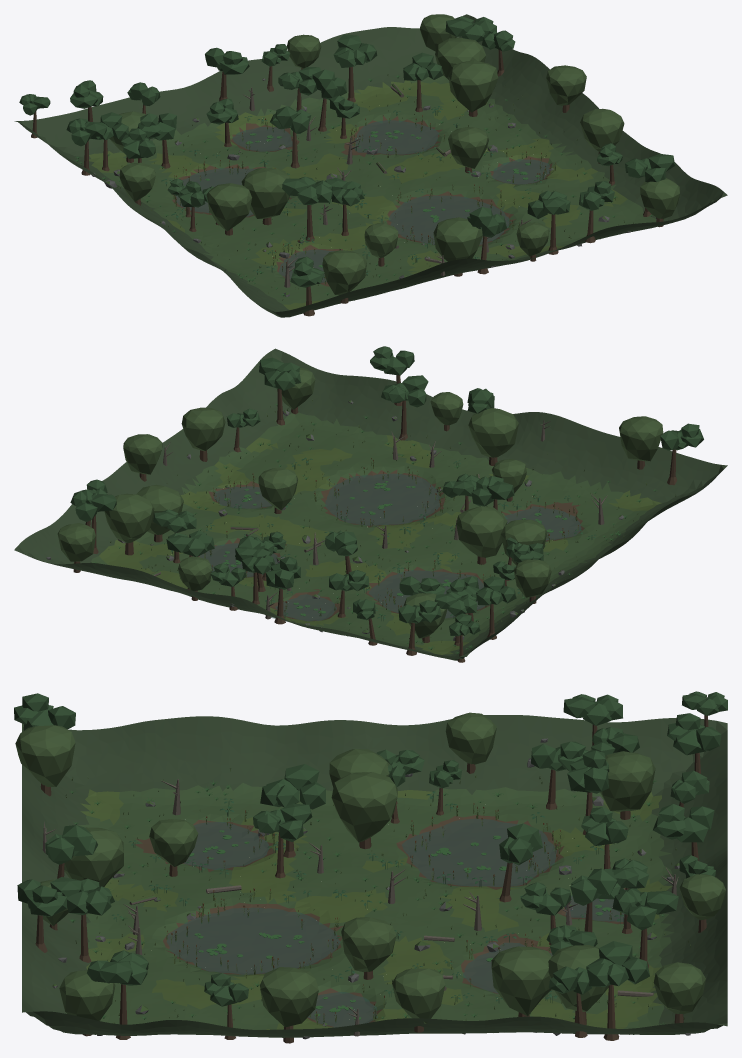
Rendered from swamp_world.glb.
3 views of the same model, one above another, from view 1: azimuth 30°, elevation 25°; view 2: azimuth 150°, elevation 25°; view 3: azimuth 270°, elevation 25° (orthographic). The views are drawn at different scales.
Visible parts, largest first — view 1: Terrain, Pond_3, Pond_2, Tree_Willow_1.010, Tree_Willow_1.001, Tree_Willow_1.009, Tree_Willow_1.002, Tree_Willow_1.004, Tree_Willow_2.005, Tree_Willow_1.008, Tree_Willow_1.005, Tree_Round_2.007 (+37 smaller); view 2: Terrain, Pond_3, Tree_Willow_1.001, Tree_Willow_1.009, Tree_Willow_2.001, Tree_Willow_1.004, Pond_1, Tree_Willow_2.005, Tree_Willow_1.008, Tree_Willow_1.005, Pond_4, Tree_Round_2.009 (+34 smaller); view 3: Terrain, Pond_3, Pond_1, Tree_Willow_1.001, Tree_Willow_1.010, Tree_Willow_1.004, Tree_Willow_2.005, Pond_4, Tree_Willow_1.011, Tree_Round_2.002, Tree_Willow_1.005, Tree_Willow_1.008 (+37 smaller).
Boxes of the visible parts, left/top/right/bottom form: Terrain: left=14, top=14, right=727, bottom=317; Pond_3: left=388, top=195, right=511, bottom=244; Pond_2: left=354, top=120, right=438, bottom=154; Tree_Willow_1.010: left=448, top=60, right=498, bottom=116; Tree_Willow_1.001: left=241, top=168, right=290, bottom=225; Tree_Willow_1.009: left=433, top=217, right=482, bottom=276; Tree_Willow_1.002: left=206, top=183, right=251, bottom=235; Tree_Willow_1.004: left=322, top=250, right=366, bottom=303; Tree_Willow_2.005: left=580, top=108, right=624, bottom=163; Tree_Willow_1.008: left=546, top=65, right=586, bottom=112; Tree_Willow_1.005: left=448, top=127, right=488, bottom=173; Tree_Round_2.007: left=282, top=176, right=332, bottom=241; Terrain: left=14, top=348, right=727, bottom=660; Pond_3: left=325, top=473, right=440, bottom=525; Tree_Willow_1.001: left=456, top=506, right=507, bottom=564; Tree_Willow_1.009: left=468, top=408, right=518, bottom=465; Tree_Willow_2.001: left=104, top=493, right=154, bottom=555; Tree_Willow_1.004: left=619, top=416, right=663, bottom=469; Pond_1: left=369, top=570, right=484, bottom=618; Tree_Willow_2.005: left=181, top=407, right=225, bottom=461; Tree_Willow_1.008: left=123, top=434, right=162, bottom=481; Tree_Willow_1.005: left=258, top=468, right=297, bottom=513; Pond_4: left=504, top=506, right=581, bottom=540; Tree_Round_2.009: left=259, top=357, right=301, bottom=425; Terrain: left=22, top=715, right=727, bottom=1037; Pond_3: left=166, top=907, right=340, bottom=974; Pond_1: left=402, top=818, right=556, bottom=886; Tree_Willow_1.001: left=331, top=772, right=397, bottom=849; Tree_Willow_1.010: left=491, top=946, right=551, bottom=1016; Tree_Willow_1.004: left=15, top=725, right=75, bottom=796; Tree_Willow_2.005: left=260, top=967, right=318, bottom=1043; Pond_4: left=183, top=822, right=269, bottom=869; Tree_Willow_1.011: left=600, top=751, right=655, bottom=819; Tree_Round_2.002: left=586, top=941, right=649, bottom=1040; Tree_Willow_1.005: left=341, top=917, right=396, bottom=979; Tree_Willow_1.008: left=392, top=968, right=445, bottom=1032.
Size of what is drawn, in the model's own units: 80.8 by 13.77 by 80.97.
